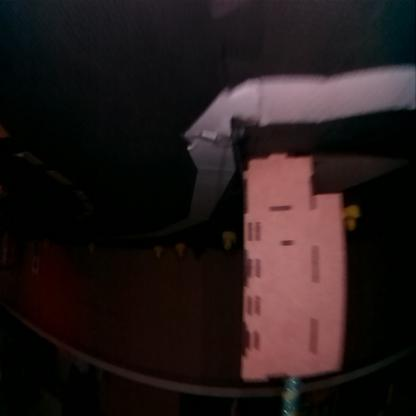Duckie: (343, 206, 358, 232), (222, 233, 232, 251), (178, 248, 184, 256), (154, 252, 160, 258)
